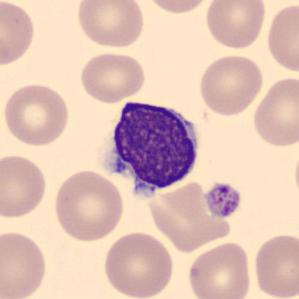Lymphocyte: (96, 92, 206, 205)
Platelets: (202, 179, 244, 220)
RBC: (52, 167, 127, 244), (101, 229, 176, 299), (1, 81, 71, 148), (197, 52, 265, 117), (185, 239, 254, 299), (77, 50, 148, 104), (74, 0, 147, 50), (250, 74, 298, 150), (0, 228, 49, 299), (0, 152, 49, 221), (250, 230, 298, 299), (202, 0, 268, 50), (264, 2, 298, 75), (0, 0, 37, 67), (141, 0, 213, 15)
